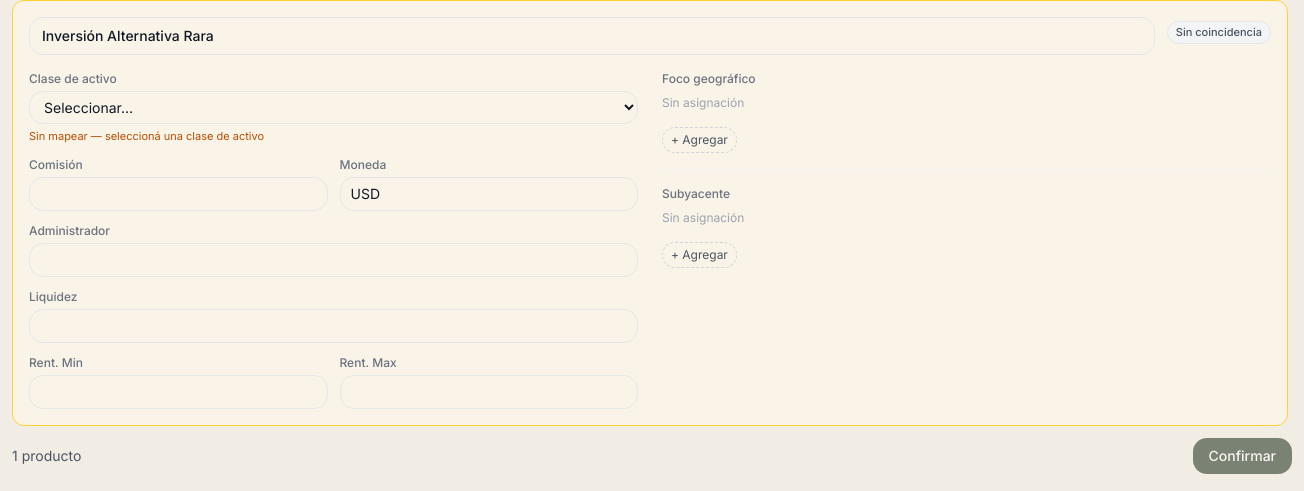
Test case: ReviewTable confirm gating › disables Confirmar while any row is unmapped, enables it once an asset class is selected
The width and height of the screenshot is (1304, 491).
expect the button "Confirmar" is disabled: met, box x1=1193 y1=438 x2=1292 y2=474
Select "Cash y Otros" in the dropdown: (334, 108) x1=29 y1=91 x2=638 y2=124
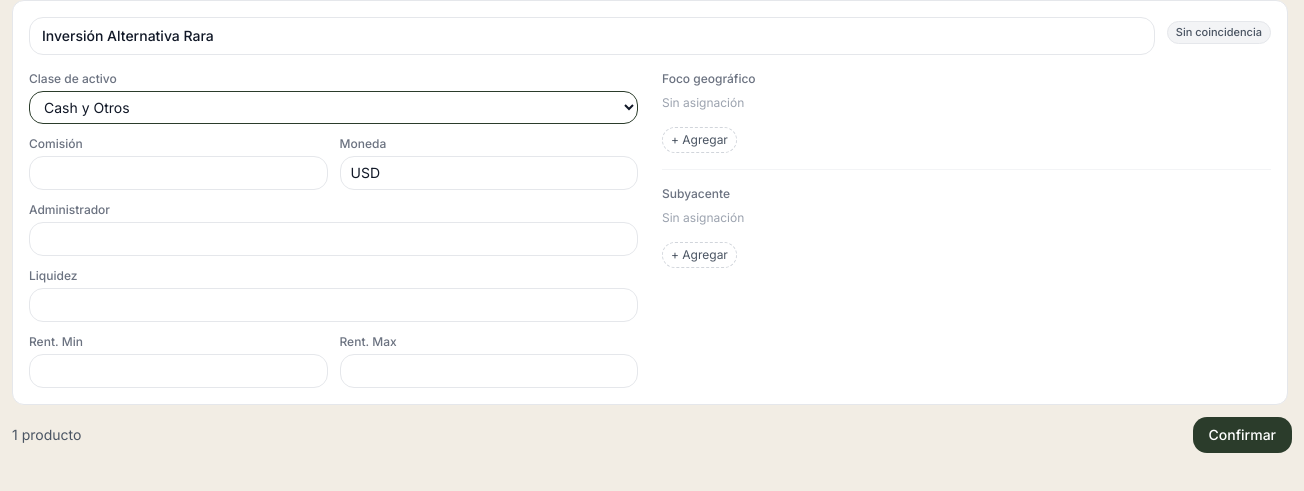
expect the button "Confirmar" is enabled: met, box x1=1193 y1=417 x2=1292 y2=453
